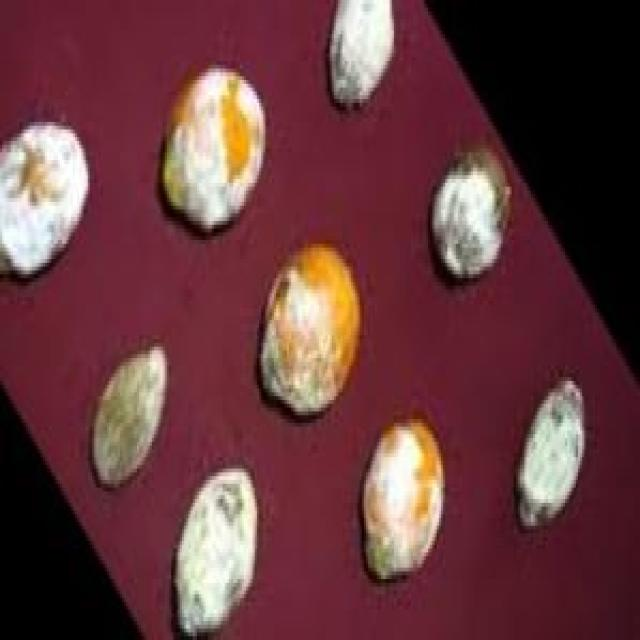damaged: (253, 202, 368, 427), (154, 61, 270, 240), (173, 465, 268, 636), (0, 118, 92, 286), (360, 411, 447, 587), (83, 339, 178, 495), (428, 149, 514, 290), (516, 377, 586, 533), (327, 0, 394, 114)
